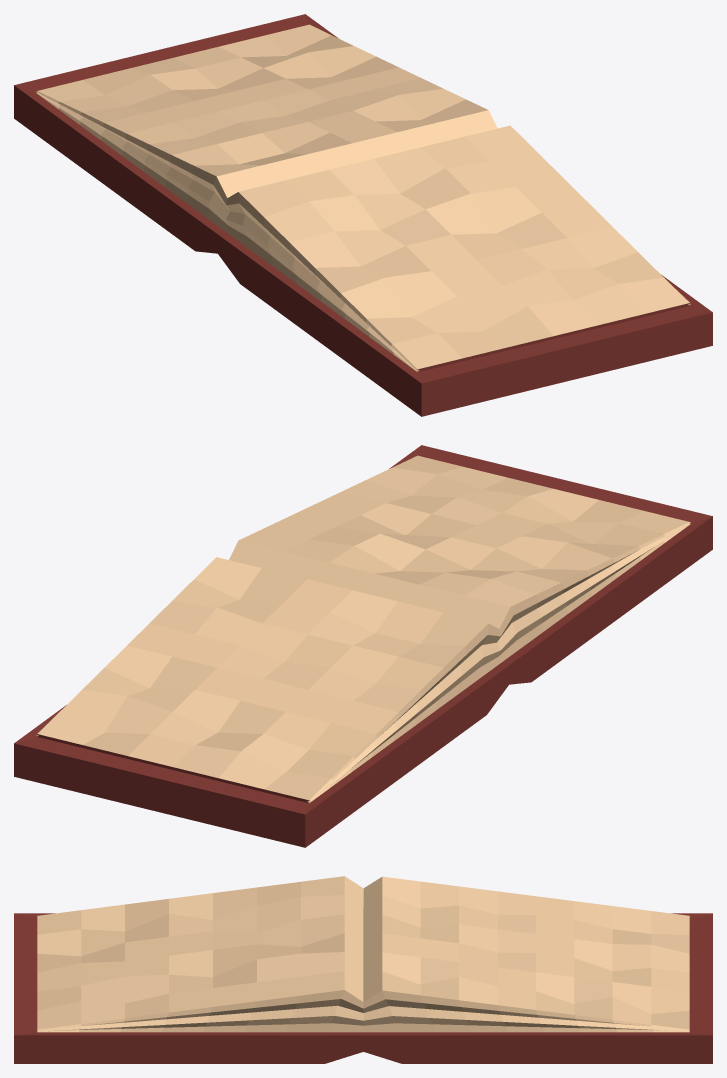
Rendered from bookAGP.fbx.
3 renders of one model, top to bottom at view 1: azimuth 30°, elevation 25°; view 2: azimuth 150°, elevation 25°; view 3: azimuth 270°, elevation 25°, orthographic. The views are drawn at different scales.
Parts seen in each view (by area): view 1: Cube; view 2: Cube; view 3: Cube.
Boxes of the visible parts, bbox=[...] form: Cube: bbox=[14, 14, 712, 416]; Cube: bbox=[14, 445, 712, 847]; Cube: bbox=[14, 876, 712, 1063].
Size of the model in its own units: 214 by 57.28 by 519.
